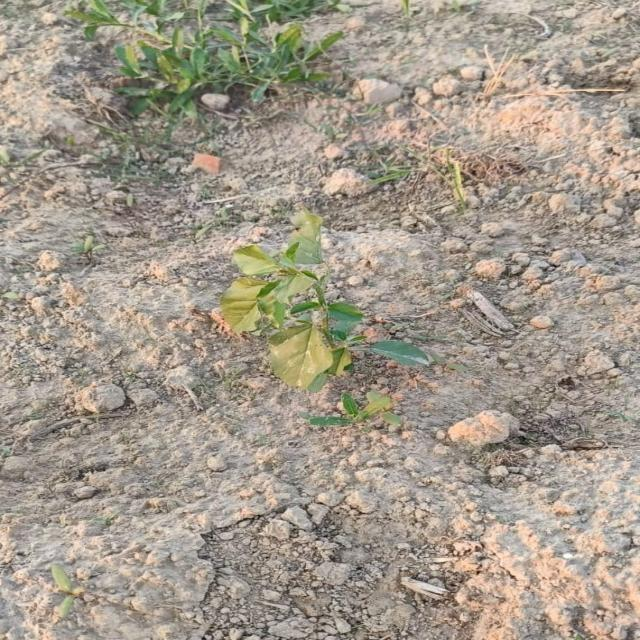weed: (219, 208, 429, 391), (67, 0, 341, 114), (311, 392, 398, 426)
